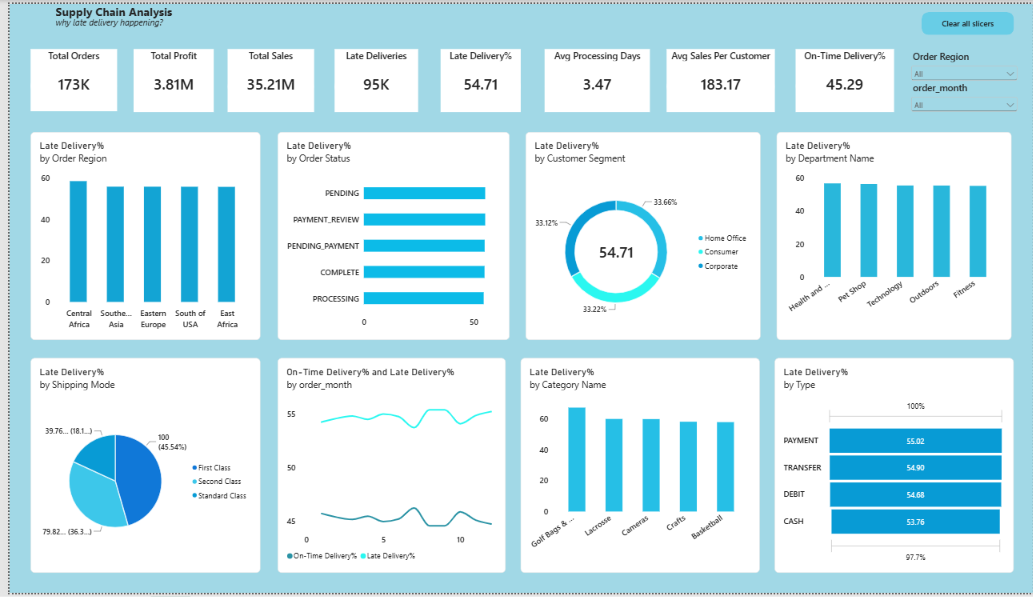

What the dashboard file says about the page in this screenshot:
{"tool":"powerbi","page":{"name":"Analysis","canvas":[1920,1105],"ordinal":0},"visuals":[{"type":"lineStackedColumnComboChart","fields":{"Category":["supply chain_cleaned.Order Region"],"Y":["supply chain_cleaned.Late Delivery%"]},"box":[39.6,239.3,431.6,390.1],"z":0},{"type":"donutChart","fields":{"Category":["supply chain_cleaned.Customer Segment"],"Y":["supply chain_cleaned.Late Delivery%"]},"box":[968.7,239.3,441,390.1],"z":1},{"type":"pieChart","fields":{"Category":["supply chain_cleaned.Shipping Mode"],"Y":["supply chain_cleaned.Late Delivery%"]},"box":[39.6,665.3,431.6,403.3],"z":2},{"type":"barChart","fields":{"Category":["supply chain_cleaned.Order Status"],"Y":["supply chain_cleaned.Late Delivery%"]},"box":[503.2,239.3,435.3,390.1],"z":3},{"type":"funnel","fields":{"Category":["supply chain_cleaned.Type"],"Y":["supply chain_cleaned.Late Delivery%"]},"box":[1436,665.3,448.5,403.3],"z":4},{"type":"lineClusteredColumnComboChart","fields":{"Category":["supply chain_cleaned.Department Name"],"Y":["supply chain_cleaned.Late Delivery%"]},"box":[1439.8,239.3,441,390.1],"z":5},{"type":"cardVisual","title":"Total Orders","fields":{"Data":["supply chain_cleaned.Total Orders"]},"box":[39.6,84.8,162.1,116.8],"z":6},{"type":"cardVisual","title":"Total Profit","fields":{"Data":["supply chain_cleaned.Total Profit"]},"box":[231.8,84.8,150.8,118.7],"z":7},{"type":"cardVisual","title":"Total Sales","fields":{"Data":["supply chain_cleaned.Total Sales"]},"box":[409,84.8,162.1,118.7],"z":8},{"type":"cardVisual","title":"Late Deliveries","fields":{"Data":["supply chain_cleaned.Late Deliveries"]},"box":[610.6,84.8,156.4,118.7],"z":9},{"type":"cardVisual","title":"Late Delivery%","fields":{"Data":["supply chain_cleaned.Late Delivery%"]},"box":[808.5,84.8,150.8,118.7],"z":10},{"type":"cardVisual","title":"Avg Processing Days","fields":{"Data":["supply chain_cleaned.Avg Processing Days"]},"box":[1004.5,84.8,197.9,118.7],"z":11},{"type":"cardVisual","title":"Avg Sales Per Customer","fields":{"Data":["supply chain_cleaned.Avg Sales Per Customer"]},"box":[1232.5,84.8,203.5,118.7],"z":12},{"type":"cardVisual","title":"On-Time Delivery%","fields":{"Data":["supply chain_cleaned.On-Time Delivery%"]},"box":[1475.6,84.8,184.7,118],"z":14},{"type":"slicer","fields":{"Values":["supply chain_cleaned.Order Region"]},"box":[1686.7,86.7,209.2,60.3],"z":15},{"type":"slicer","fields":{"Values":["supply chain_cleaned.order_month"]},"box":[1686.7,145.1,209.2,64.1],"z":16},{"type":"textbox","box":[86.7,0,220.5,39.6],"z":17},{"type":"textbox","box":[86.7,22.6,273.3,35.8],"z":18},{"type":"lineChart","fields":{"Category":["supply chain_cleaned.order_month"],"Y":["supply chain_cleaned.On-Time Delivery%","supply chain_cleaned.Late Delivery%"]},"box":[503.2,665.3,427.8,403.3],"z":19},{"type":"lineStackedColumnComboChart","fields":{"Category":["supply chain_cleaned.Category Name"],"Y":["supply chain_cleaned.Late Delivery%"]},"box":[959.2,665.3,448.5,403.3],"z":20},{"type":"actionButton","box":[1711.2,15.1,173.4,43.3],"z":21}]}

Visuals, with their boxes in screenshot pixels (x1, y1, x2, y2), scaled from the page's 1920x1105 canvas onto the 1033x597 screenshot:
lineStackedColumnComboChart - supply chain_cleaned.Order Region x supply chain_cleaned.Late Delivery%: [x1=21, y1=129, x2=254, y2=340]
donutChart - supply chain_cleaned.Customer Segment x supply chain_cleaned.Late Delivery%: [x1=521, y1=129, x2=758, y2=340]
pieChart - supply chain_cleaned.Shipping Mode x supply chain_cleaned.Late Delivery%: [x1=21, y1=359, x2=254, y2=577]
barChart - supply chain_cleaned.Order Status x supply chain_cleaned.Late Delivery%: [x1=271, y1=129, x2=505, y2=340]
funnel - supply chain_cleaned.Type x supply chain_cleaned.Late Delivery%: [x1=773, y1=359, x2=1014, y2=577]
lineClusteredColumnComboChart - supply chain_cleaned.Department Name x supply chain_cleaned.Late Delivery%: [x1=775, y1=129, x2=1012, y2=340]
"Total Orders" cardVisual: [x1=21, y1=46, x2=109, y2=109]
"Total Profit" cardVisual: [x1=125, y1=46, x2=206, y2=110]
"Total Sales" cardVisual: [x1=220, y1=46, x2=307, y2=110]
"Late Deliveries" cardVisual: [x1=329, y1=46, x2=413, y2=110]
"Late Delivery%" cardVisual: [x1=435, y1=46, x2=516, y2=110]
"Avg Processing Days" cardVisual: [x1=540, y1=46, x2=647, y2=110]
"Avg Sales Per Customer" cardVisual: [x1=663, y1=46, x2=773, y2=110]
"On-Time Delivery%" cardVisual: [x1=794, y1=46, x2=893, y2=110]
slicer - supply chain_cleaned.Order Region: [x1=907, y1=47, x2=1020, y2=79]
slicer - supply chain_cleaned.order_month: [x1=907, y1=78, x2=1020, y2=113]
textbox: [x1=47, y1=0, x2=165, y2=21]
textbox: [x1=47, y1=12, x2=194, y2=32]
lineChart - supply chain_cleaned.order_month x supply chain_cleaned.On-Time Delivery%: [x1=271, y1=359, x2=501, y2=577]
lineStackedColumnComboChart - supply chain_cleaned.Category Name x supply chain_cleaned.Late Delivery%: [x1=516, y1=359, x2=757, y2=577]
actionButton: [x1=921, y1=8, x2=1014, y2=32]
